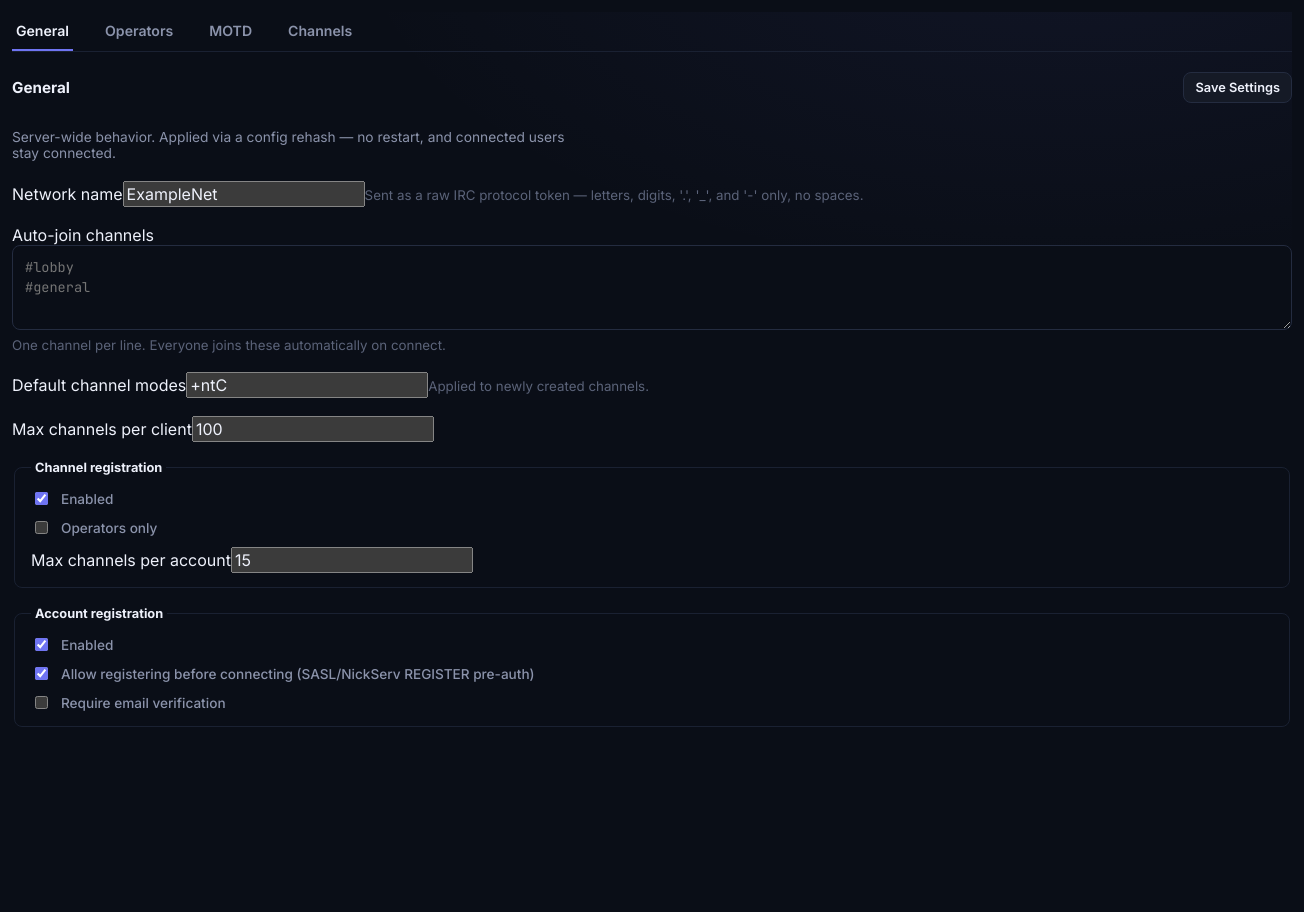
Test: IrcSettingsPanel › lists existing operators and their roles
Click the tab "Operators" at x=139, y=32, box top-left (101, 12), bottom-right (177, 51)
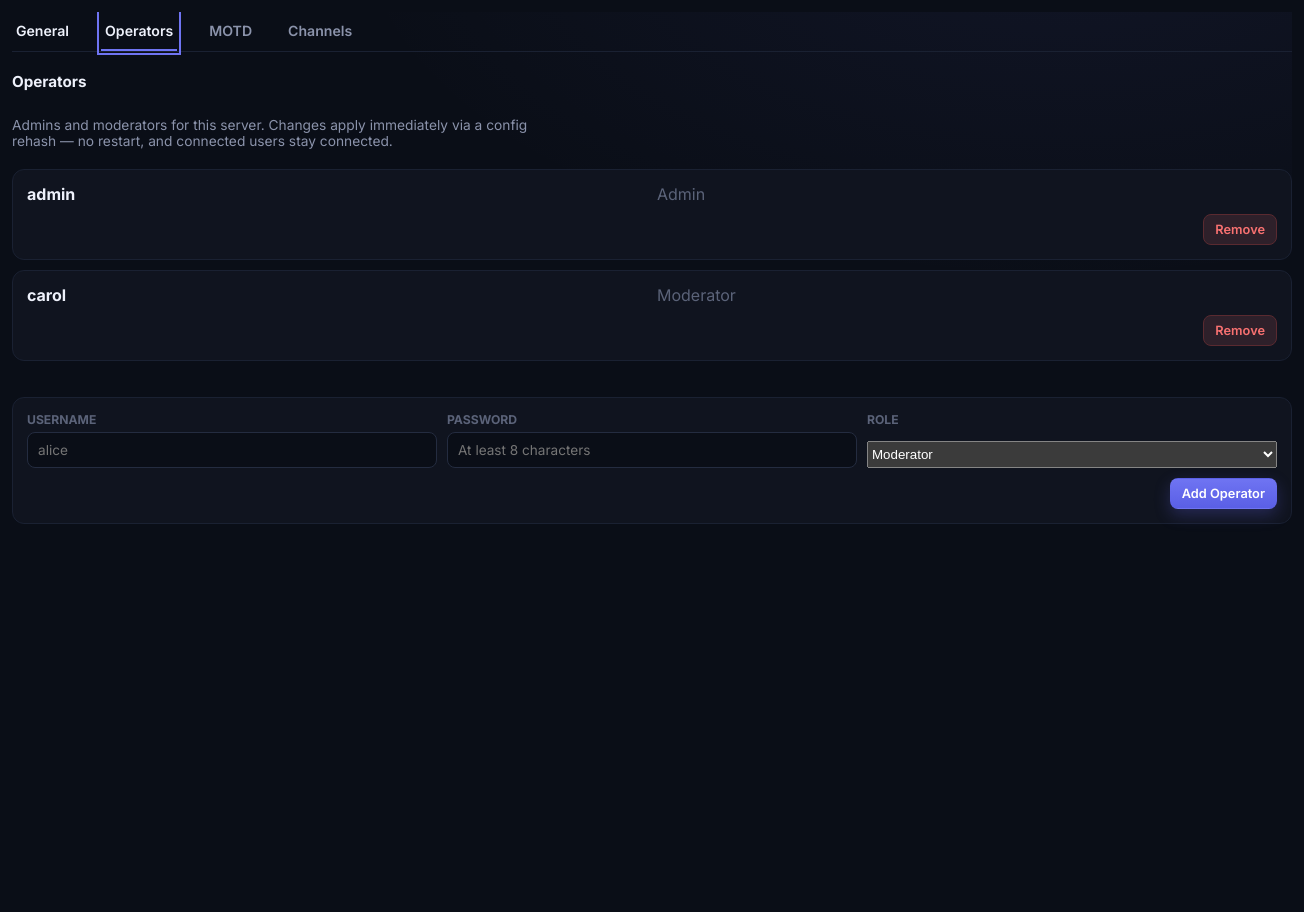
expect the text "admin" is shown: met, box top-left (27, 184), bottom-right (75, 204)
expect the text "Admin" is shown: met, box top-left (657, 184), bottom-right (705, 204)
expect the text "Moderator" is shown: met, box top-left (657, 285), bottom-right (736, 305)
